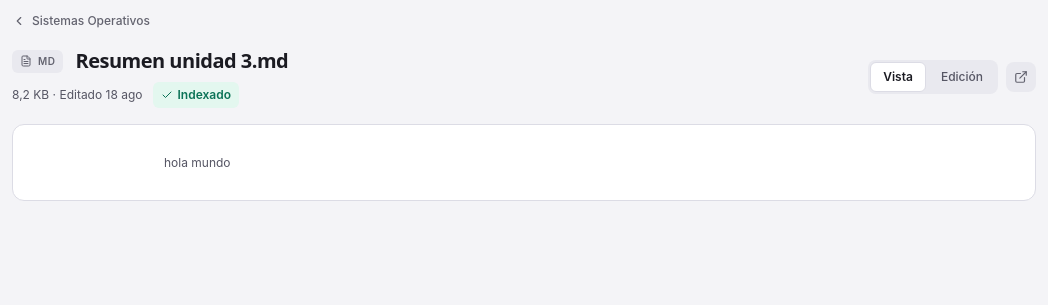
Test: AttachmentViewerContainer — edición › a toolbar action transforms the draft through the pure helper and re-applies the selection
This screenshot has width=1048, height=305.
expect the text "hola mundo" is shown: met, box [164,155,231,170]
Step 1. Click the button "Edición" → [962, 77], box [928,62,996,92]
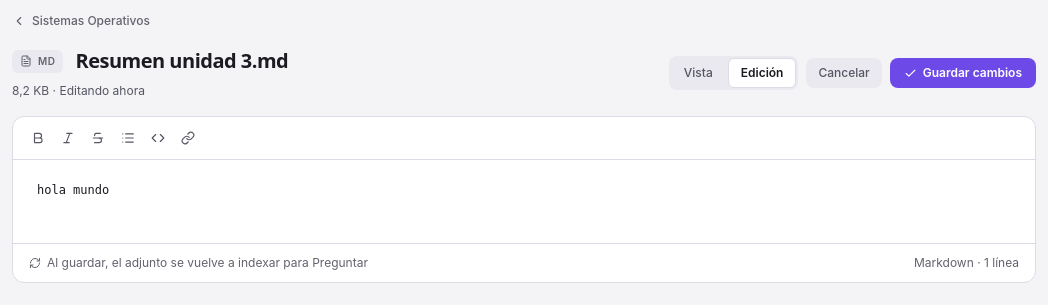
Step 2. Click the button named "Negrita" → [38, 138], box [25,125,51,151]
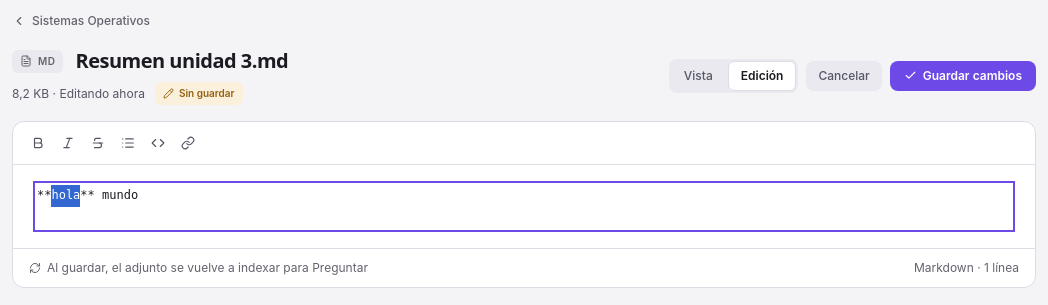
expect the text box named "Editor de markdown" holds "**hola** mundo": met, box [37,185,1011,228]
